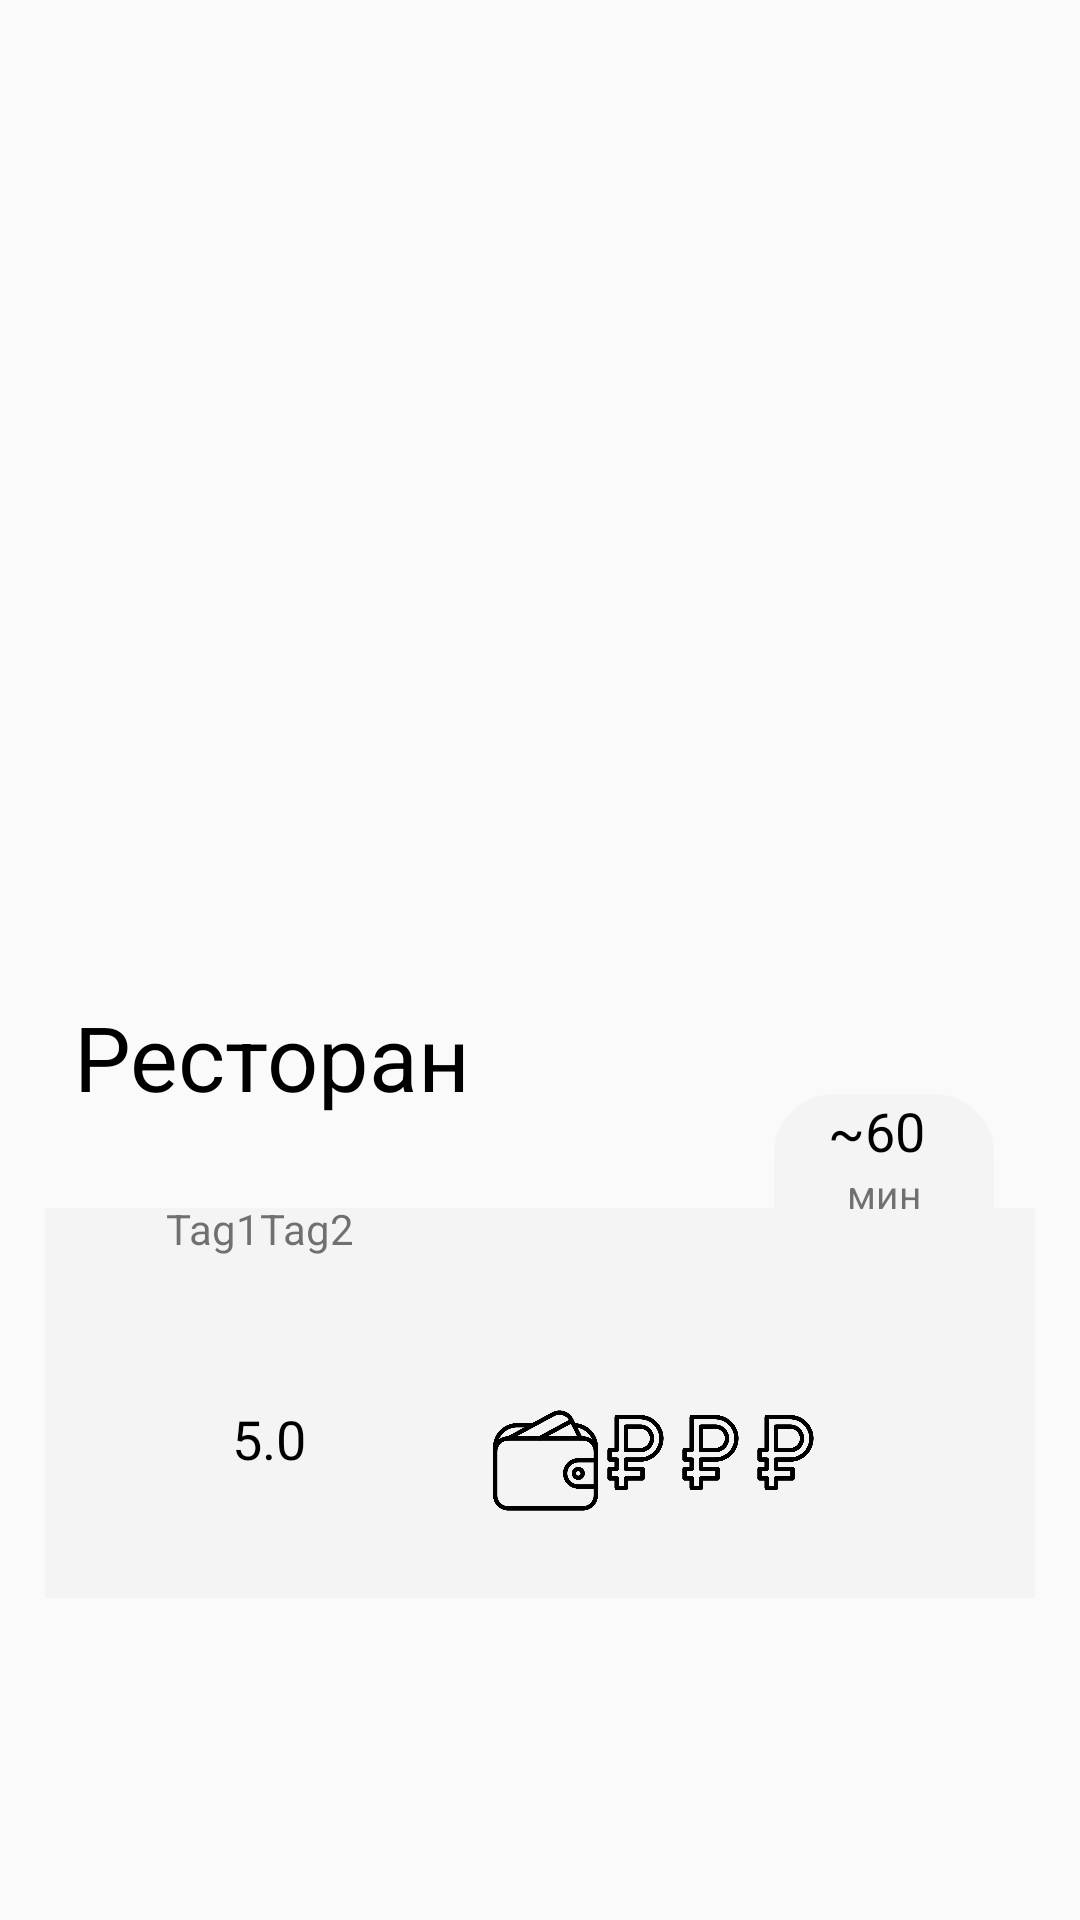

Icons on this 1080x1920 Android screen, each with its box as (x1=x1, y1=y1, x2=x2, y2=y2):
wallet: (x1=493, y1=1410, x2=598, y2=1511)
